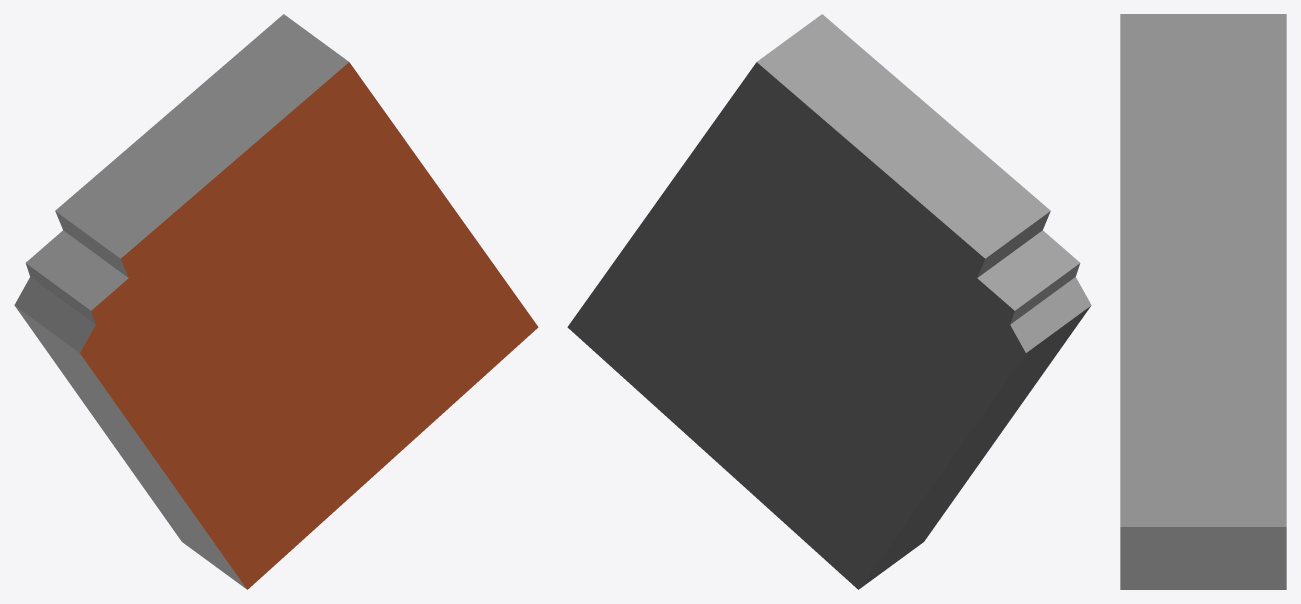
Rendered from construction_4207_assumed_A_Casa_h6m.obj.
3 renders of one model, left to right at view 1: azimuth 30°, elevation 25°; view 2: azimuth 150°, elevation 25°; view 3: azimuth 270°, elevation 25°, orthographic. The views are drawn at different scales.
Parts seen in each view (by area): view 1: construction_4207_assumed_A_Casa; view 2: construction_4207_assumed_A_Casa; view 3: construction_4207_assumed_A_Casa.
Part boxes in pixels (x1,y1,x2,y2): construction_4207_assumed_A_Casa: [14, 14, 538, 589]; construction_4207_assumed_A_Casa: [567, 14, 1091, 589]; construction_4207_assumed_A_Casa: [1120, 14, 1286, 589].
Bounding box in the file's own units: 24.22 × 25.39 × 6.
